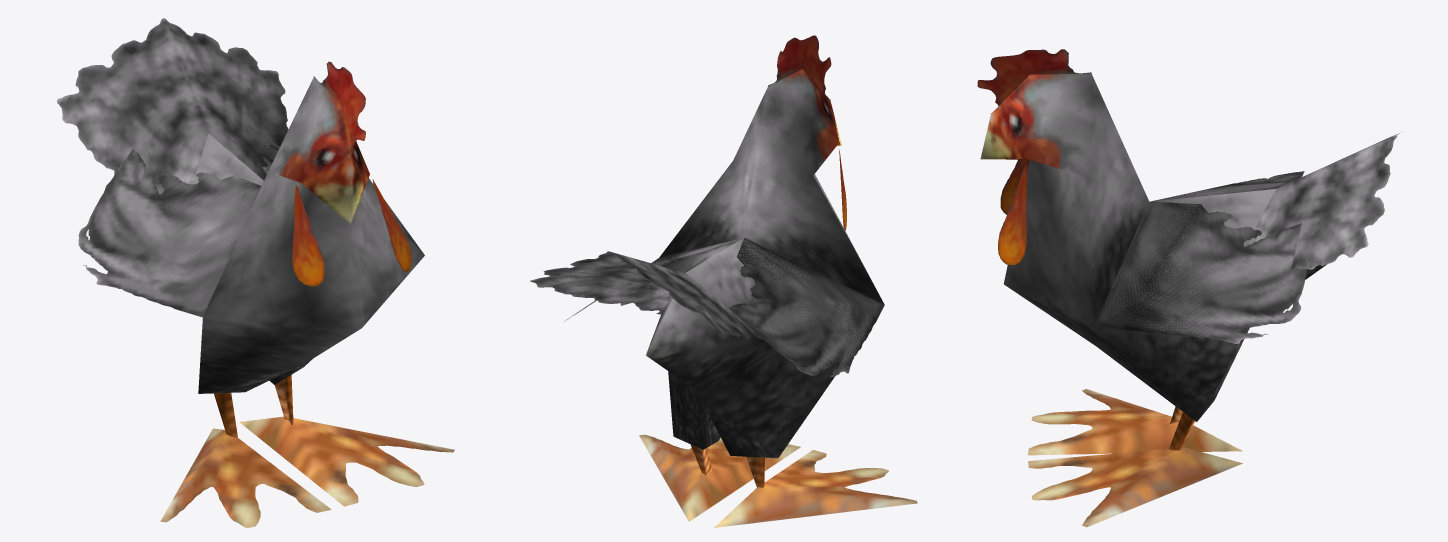
Rendered from chicken_[2]_Stand_1854.obj.
3 renders of one model, left to right at view 1: azimuth 30°, elevation 25°; view 2: azimuth 150°, elevation 25°; view 3: azimuth 270°, elevation 25°, orthographic. The views are drawn at different scales.
Parts seen in each view (by area): view 1: Geoset_000; view 2: Geoset_000; view 3: Geoset_000.
Part boxes in pixels (box(x1,y1,x2,y2)): Geoset_000: box(57, 18, 454, 527); Geoset_000: box(530, 35, 917, 527); Geoset_000: box(977, 49, 1401, 527).
Bounding box in the file's own units: 0.3069 × 0.4403 × 0.435.
